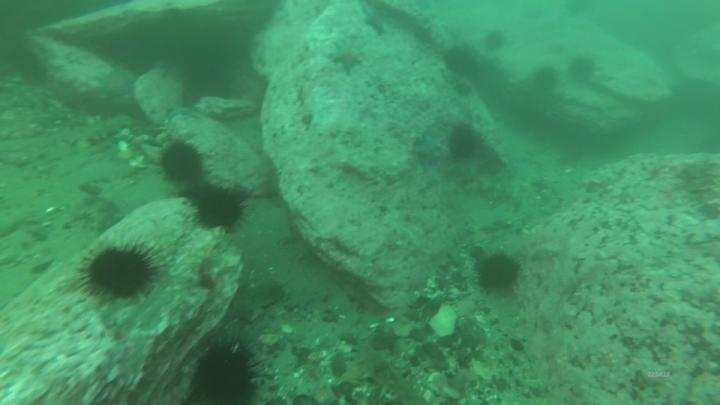echinus: (194, 349, 255, 400), (90, 250, 153, 295), (195, 192, 245, 225), (476, 256, 519, 289), (164, 147, 204, 182), (444, 46, 478, 78), (450, 125, 481, 157), (569, 56, 598, 85), (533, 69, 558, 95), (483, 31, 506, 53)
scallop: (131, 157, 146, 170), (117, 140, 132, 152)
starfish: (336, 43, 363, 73)
